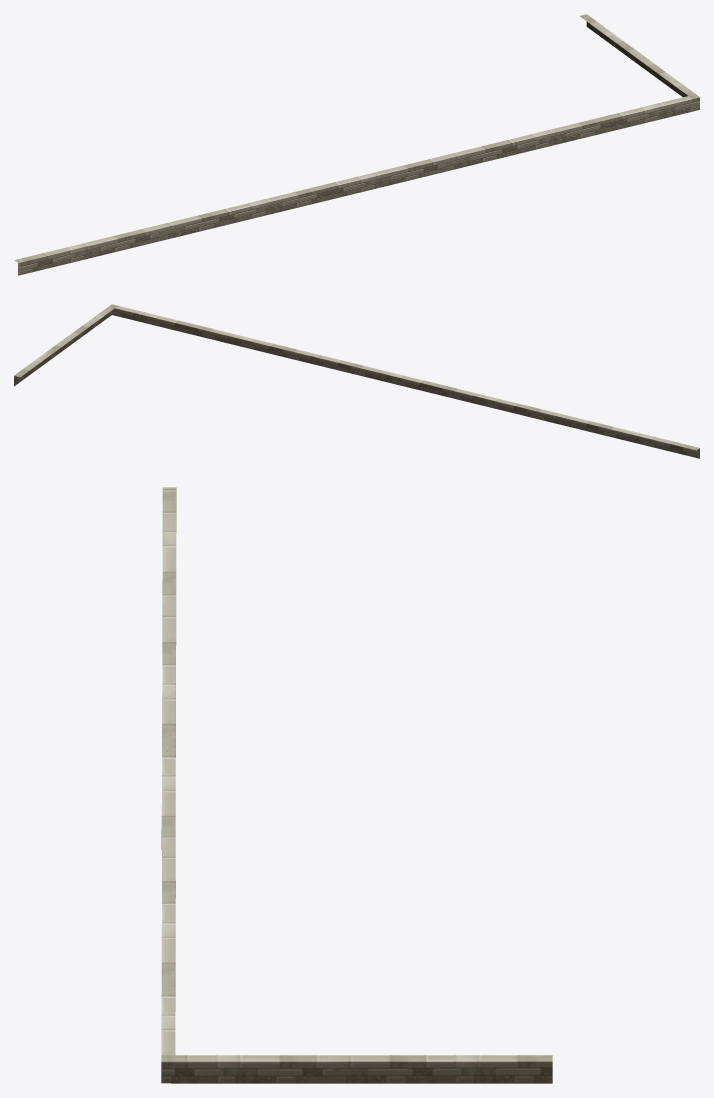
The model's file is huayuanWK2.FBX.
3 views of the same model, one above another, from view 1: azimuth 30°, elevation 25°; view 2: azimuth 150°, elevation 25°; view 3: azimuth 270°, elevation 25° (orthographic). The views are drawn at different scales.
Parts seen in each view (by area): view 1: huayuanWK2; view 2: huayuanWK2; view 3: huayuanWK2.
Boxes of the visible parts, box(x1,y1,x2,y2) form: huayuanWK2: box(14, 14, 699, 275); huayuanWK2: box(14, 304, 699, 458); huayuanWK2: box(161, 487, 552, 1083).
Size of the model in its own units: 805 by 14.29 by 232.
